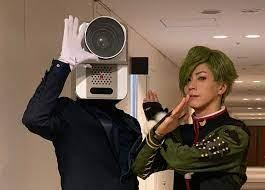no more kid: (76, 14, 131, 104)
